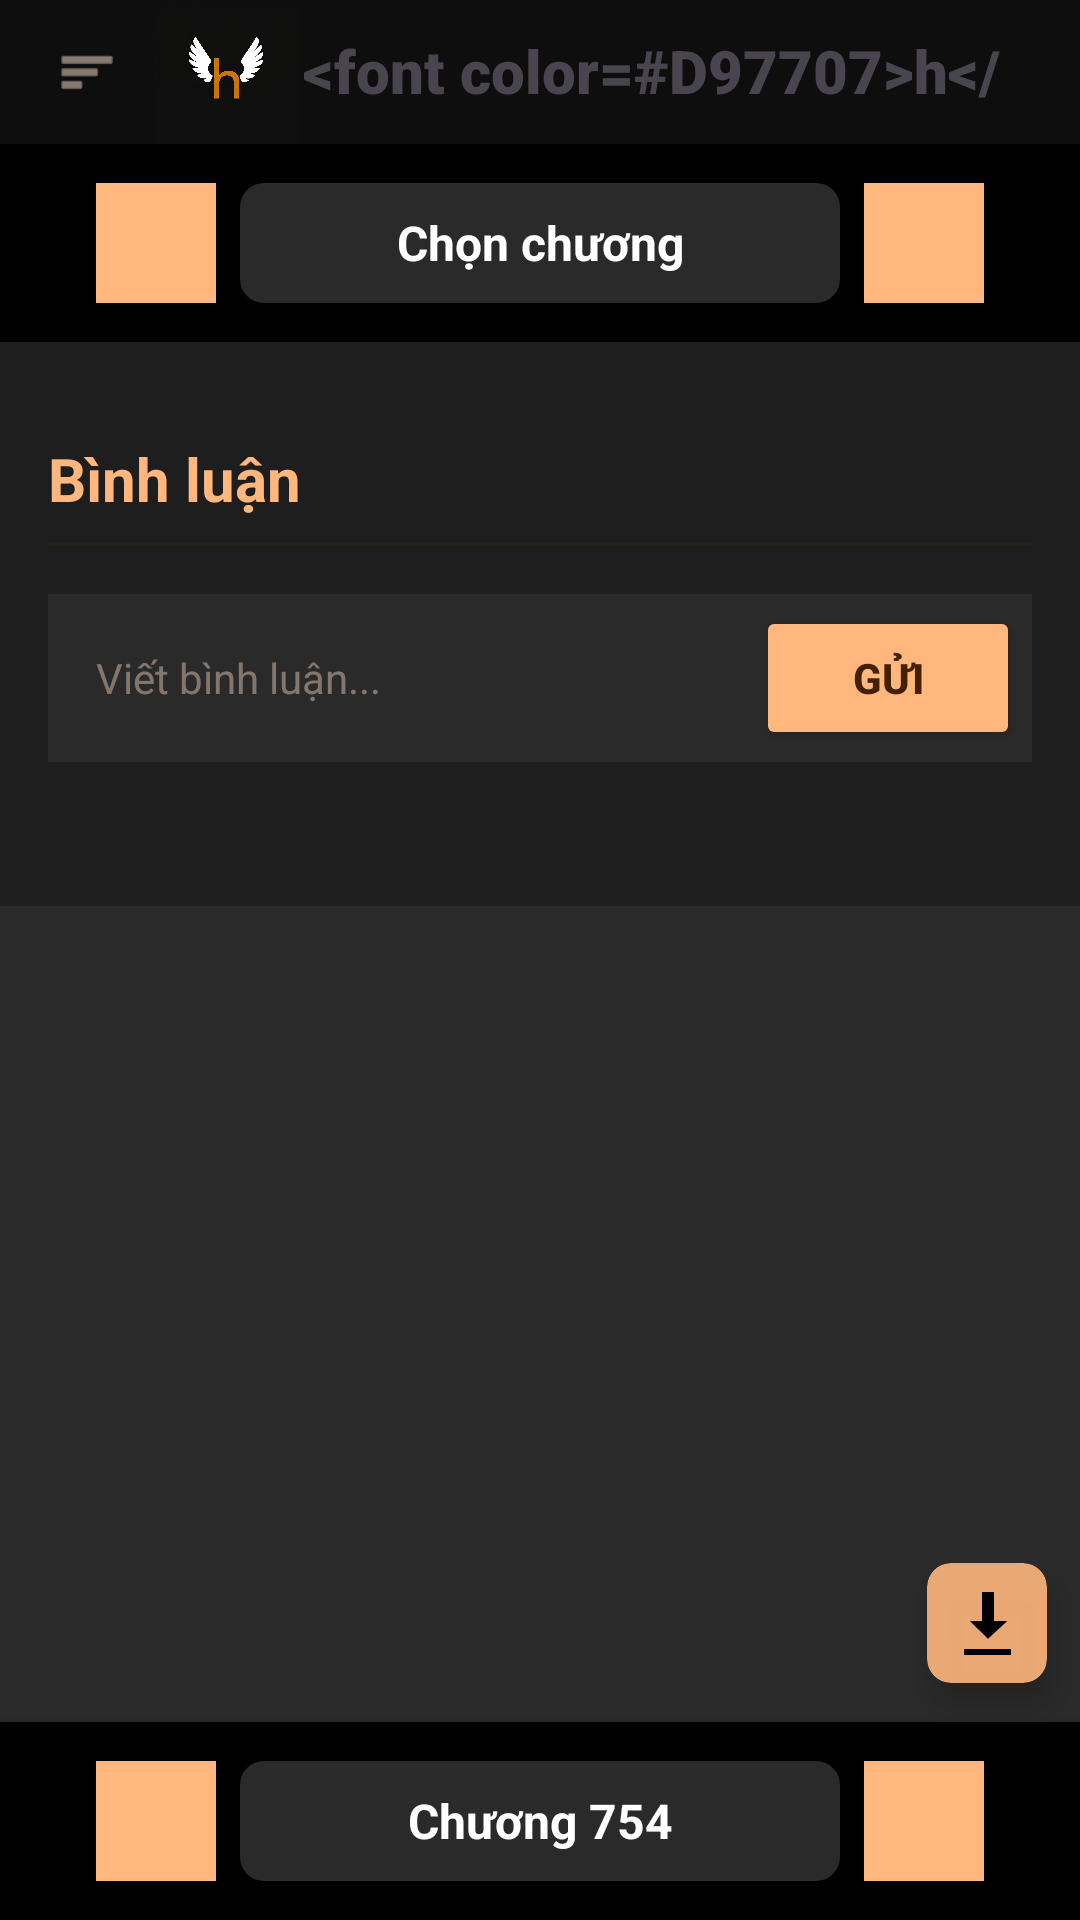

Where to tap for icons on this 1080px×1920px app screen, as [x,y]:
Menu: [87,72]
Tải chương truyện ngoại tuyến: [987,1623]
